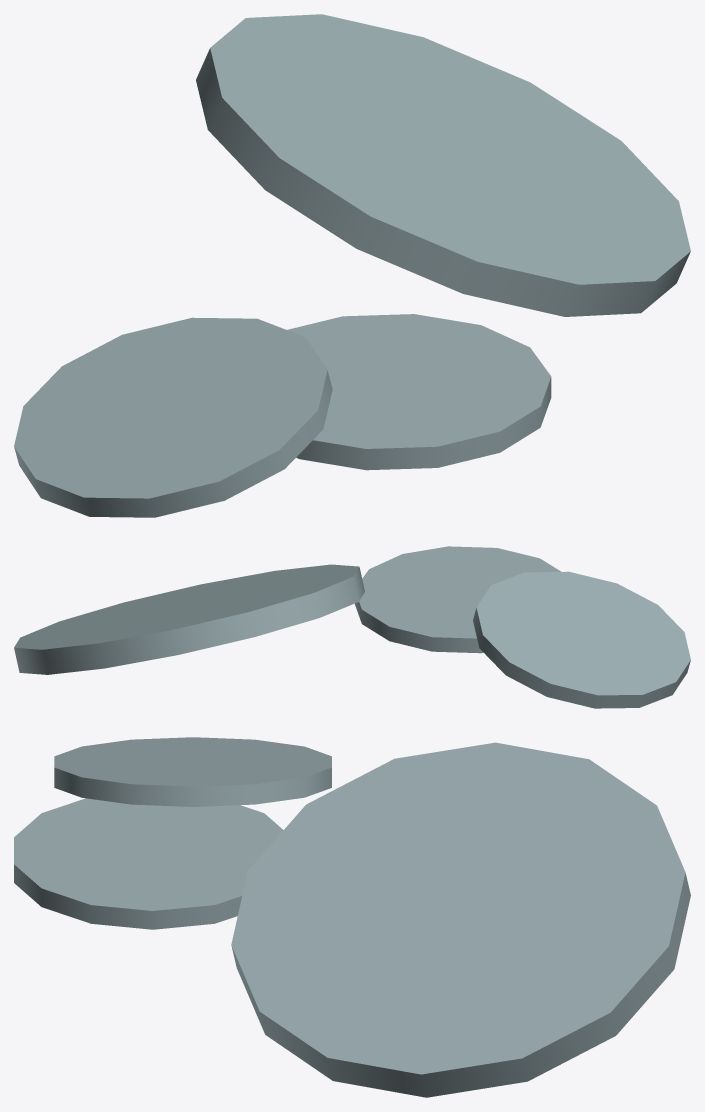
Rendered from SM_Pancakes_01.FBX.
3 views of the same model, one above another, from view 1: azimuth 30°, elevation 25°; view 2: azimuth 150°, elevation 25°; view 3: azimuth 270°, elevation 25° (orthographic). The views are drawn at different scales.
Visible parts, largest first — view 1: SM_Pancakes_01; view 2: SM_Pancakes_01; view 3: SM_Pancakes_01.
Part boxes in pixels (left/top/right/bottom): SM_Pancakes_01: left=14, top=14, right=690, bottom=517; SM_Pancakes_01: left=14, top=546, right=690, bottom=708; SM_Pancakes_01: left=14, top=737, right=690, bottom=1097.
Size of the model in its own units: 82.55 by 70.99 by 21.22.
